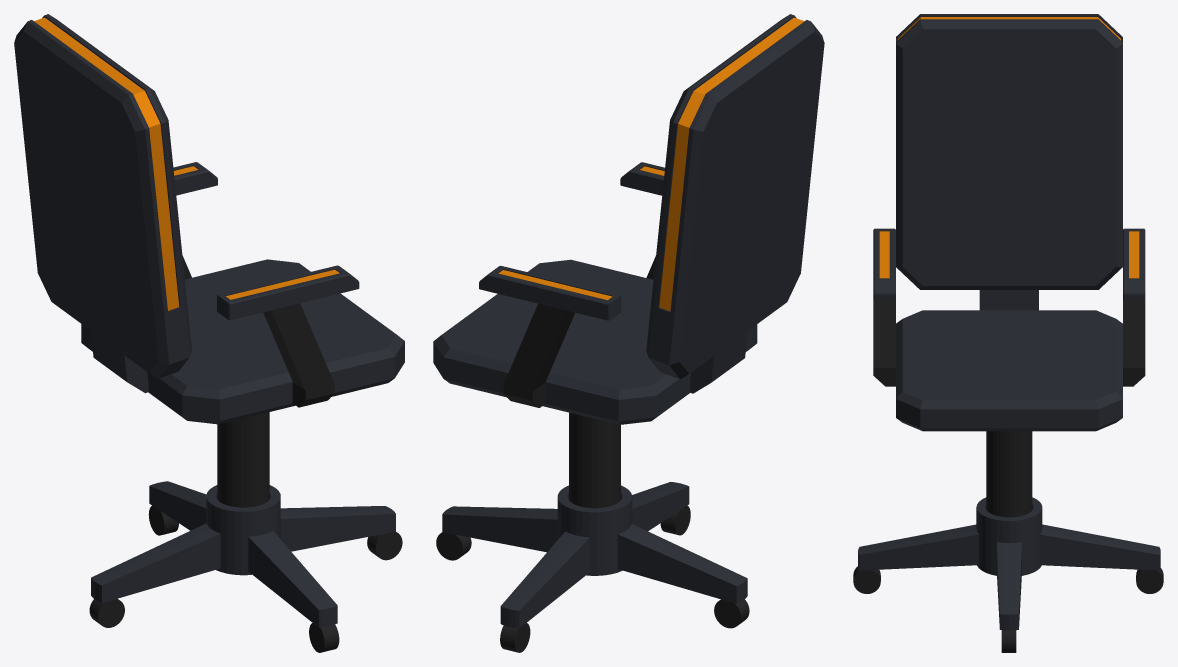
File: SM_Chair.fbx
The picture shows the model from 3 angles, left to right: view 1: azimuth 30°, elevation 25°; view 2: azimuth 150°, elevation 25°; view 3: azimuth 270°, elevation 25°; orthographic projection. The views are drawn at different scales.
Visible parts, largest first — view 1: SM_Chair; view 2: SM_Chair; view 3: SM_Chair.
Boxes of the visible parts, x1,y1,x2,y2 form: SM_Chair: (14,14,404,652); SM_Chair: (433,14,824,652); SM_Chair: (853,14,1163,652).
Bounding box in the file's own units: 63.99 × 108 × 59.86.
